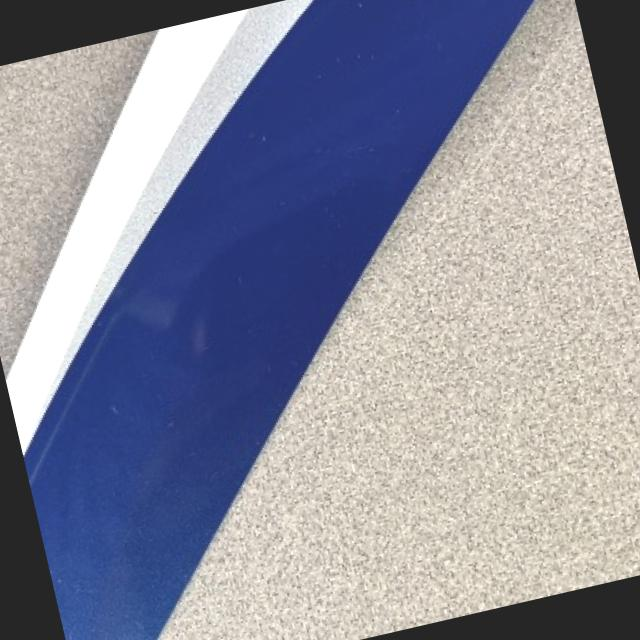healthy: (25, 0, 531, 640)
